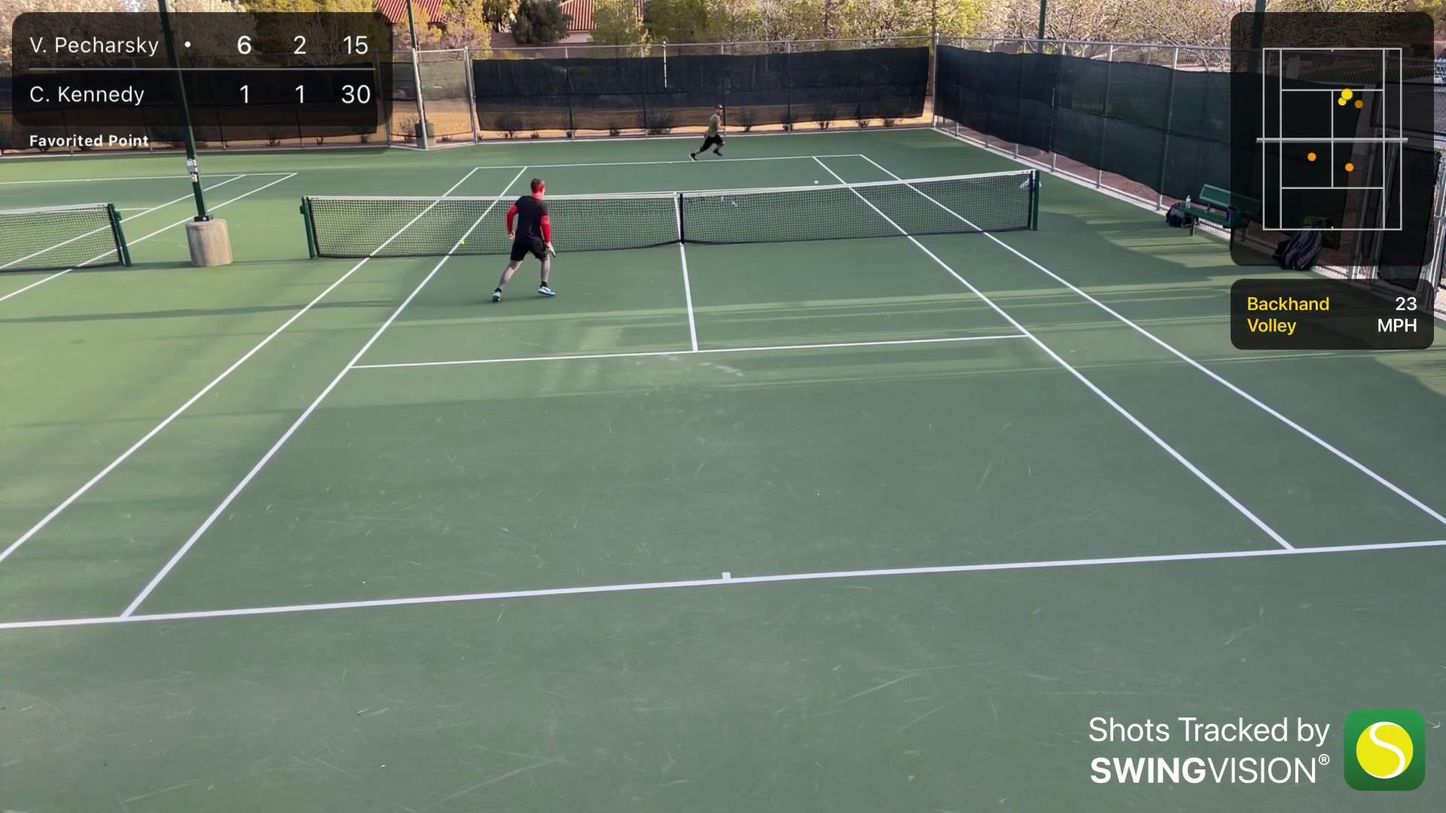ball: (813, 178, 820, 185)
